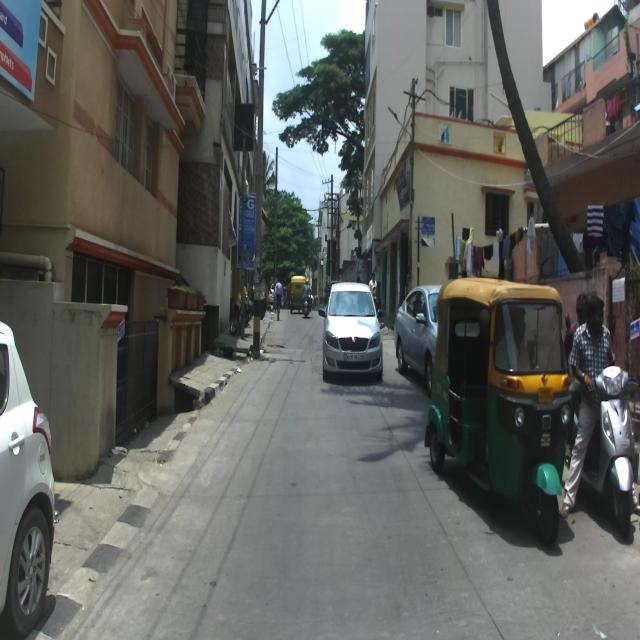auto ahead at: (430, 271, 571, 539)
car ahead at: (322, 273, 386, 384)
electric pole ahead at: (576, 359, 634, 543), (250, 1, 270, 360)
